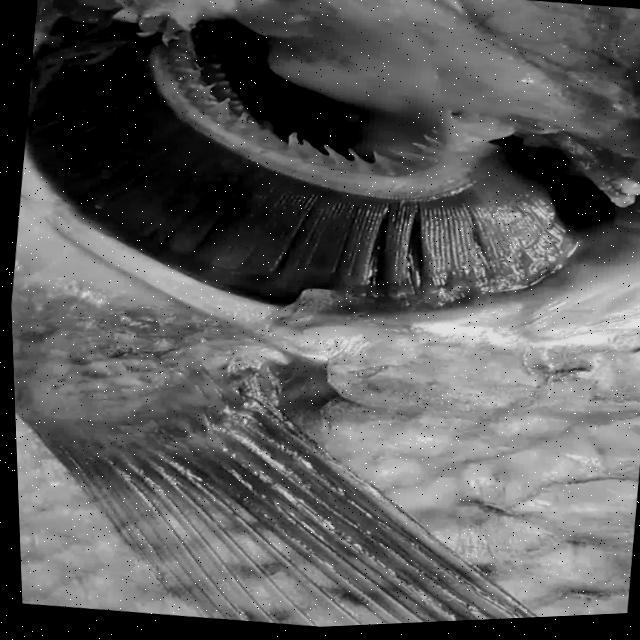Non-Fresh: (21, 0, 603, 365)
